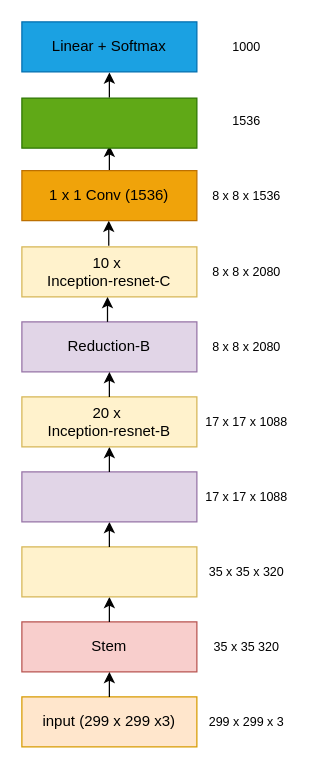
The diagram is 319 pixels wide and 769 high, and some of its shapes have lost their labels. The shapes that lost their labels are listed below. From the top down, each one's centre as x and y in pixels, then its label:
At point (109, 122): "Global Avg Poolinng".
At point (109, 496): "Reduction-A".
At point (109, 571): "10 x Inception-resnet-A".
